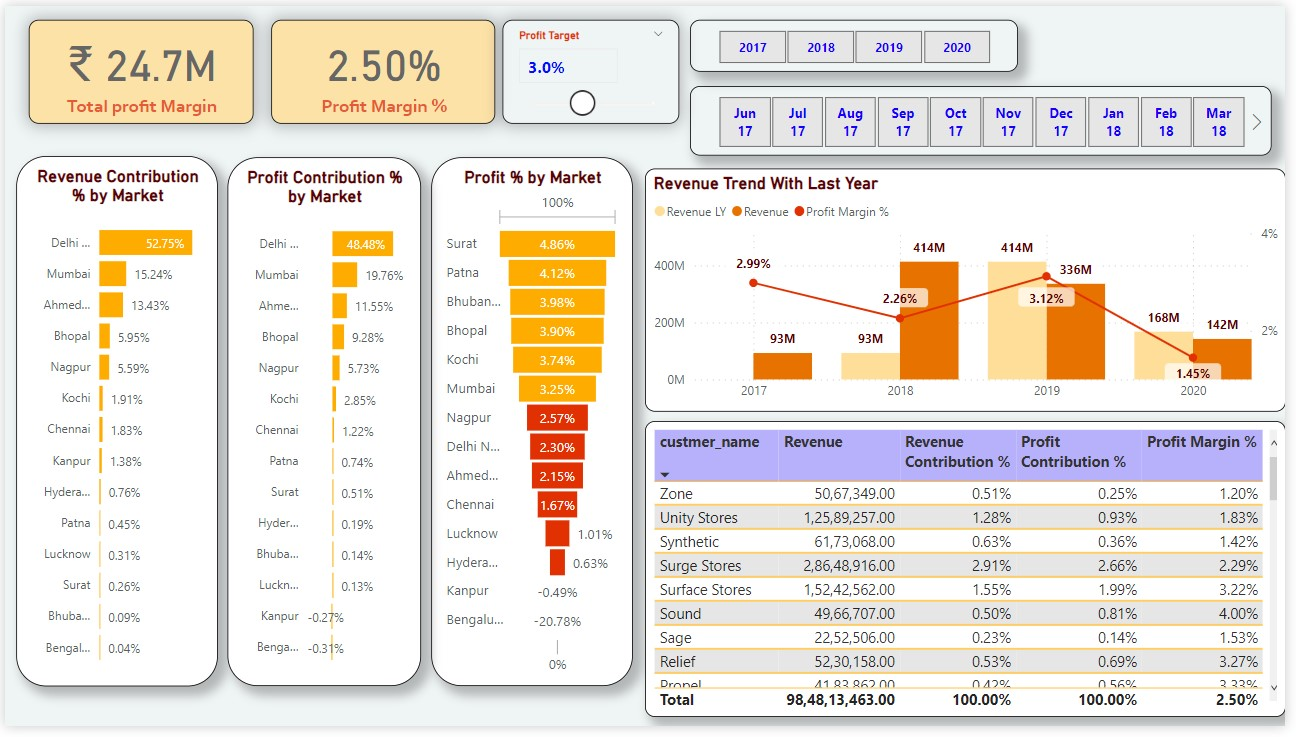

What the dashboard file says about the page in this screenshot:
{"tool":"powerbi","page":{"name":"Performance Analysis","canvas":[1280,720],"ordinal":1},"visuals":[{"type":"funnel","title":"Profit % by Market","fields":{"Category":["sales markets.markets_name"],"Y":["BaseMeasure.Profit Margin %"]},"box":[426.3,151.4,201.9,528.7],"z":0},{"type":"card","fields":{"Values":["BaseMeasure.Total profit Margin"]},"box":[23.3,13.7,225,104.3],"z":1000},{"type":"card","fields":{"Values":["BaseMeasure.Profit Margin %"]},"box":[266.2,13.7,223.7,104.3],"z":2000},{"type":"barChart","title":"Revenue Contribution % by Market","fields":{"Category":["sales markets.markets_name"],"Y":["BaseMeasure.Revenue Contribution %"]},"box":[11.2,150,201.9,530.1],"z":3000},{"type":"slicer","fields":{"Values":["sales date.year"]},"box":[684.7,13.7,328,52.1],"z":4000},{"type":"barChart","title":"Profit Contribution % by Market","fields":{"Category":["sales markets.markets_name"],"Y":["BaseMeasure.Profit Contribution %"]},"box":[223,151.4,193.5,528.7],"z":5000},{"type":"tableEx","fields":{"Values":["sales customers.custmer_name","BaseMeasure.Revenue","BaseMeasure.Revenue Contribution %","BaseMeasure.Profit Contribution %","BaseMeasure.Profit Margin %"]},"box":[639.5,414.4,640.8,296.4],"z":6000},{"type":"slicer","fields":{"Values":["sales date.cy_date"]},"box":[684.7,79.6,581.8,70],"z":7000},{"type":"lineClusteredColumnComboChart","title":"Revenue Trend With Last Year","fields":{"Category":["sales date.cy_date.Variation.Date Hierarchy.Year","sales date.cy_date.Variation.Date Hierarchy.Quarter","sales date.cy_date.Variation.Date Hierarchy.Month","sales date.cy_date.Variation.Date Hierarchy.Day"],"Y":["BaseMeasure.Revenue LY","BaseMeasure.Revenue"],"Y2":["BaseMeasure.Profit Margin %"]},"box":[639.5,161.9,640.8,242.9],"z":8000},{"type":"slicer","fields":{"Values":["Profit Target.Profit Target"]},"box":[498.1,13.7,177,104.3],"z":9000}]}

Visuals, with their boxes in screenshot pixels (x1, y1, x2, y2), scaled from the page's 1280x720 canvas onto the 1296x737 screenshot:
"Profit % by Market" funnel: select_region(432, 155, 636, 696)
card - BaseMeasure.Total profit Margin: select_region(24, 14, 251, 121)
card - BaseMeasure.Profit Margin %: select_region(270, 14, 496, 121)
"Revenue Contribution % by Market" barChart: select_region(11, 154, 216, 696)
slicer - sales date.year: select_region(693, 14, 1025, 67)
"Profit Contribution % by Market" barChart: select_region(226, 155, 422, 696)
tableEx - sales customers.custmer_name x BaseMeasure.Revenue: select_region(647, 424, 1295, 728)
slicer - sales date.cy_date: select_region(693, 81, 1282, 153)
"Revenue Trend With Last Year" lineClusteredColumnComboChart: select_region(647, 166, 1295, 414)
slicer - Profit Target.Profit Target: select_region(504, 14, 684, 121)
